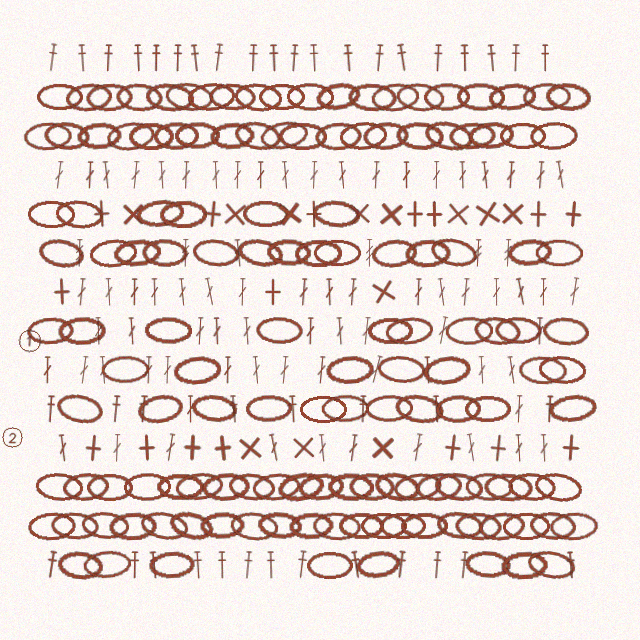chain: (422, 117, 475, 154), (166, 507, 217, 545), (54, 390, 106, 427), (532, 469, 585, 505), (138, 508, 191, 544), (525, 547, 578, 583), (428, 234, 479, 271), (36, 235, 87, 271), (235, 235, 286, 271), (232, 118, 284, 153), (258, 118, 310, 153), (393, 391, 445, 426), (135, 391, 186, 426), (275, 469, 326, 504), (372, 469, 423, 504), (392, 470, 444, 504), (105, 119, 156, 153), (421, 353, 472, 387), (314, 79, 363, 114), (547, 392, 598, 425), (174, 470, 225, 503), (433, 470, 484, 503), (164, 80, 214, 113), (135, 197, 185, 230), (472, 314, 522, 347), (414, 470, 464, 503), (435, 509, 485, 542), (144, 81, 195, 113), (395, 81, 446, 113), (251, 471, 302, 503), (190, 392, 239, 425), (354, 548, 403, 581), (233, 81, 283, 113), (370, 81, 420, 113), (487, 81, 537, 113), (54, 198, 104, 230), (311, 198, 361, 230), (88, 237, 138, 269), (112, 237, 162, 269), (191, 237, 241, 269), (384, 315, 434, 347), (541, 315, 591, 347), (172, 354, 222, 386), (229, 510, 279, 542), (477, 510, 527, 542), (537, 354, 588, 385), (64, 81, 113, 113), (370, 237, 419, 269), (227, 471, 276, 503), (297, 471, 346, 503), (56, 549, 105, 581), (186, 81, 236, 112), (338, 120, 388, 151), (376, 354, 426, 385), (34, 471, 84, 502), (507, 471, 557, 502), (80, 510, 130, 541), (528, 510, 578, 541), (82, 549, 132, 580), (544, 81, 593, 112), (395, 120, 444, 151), (467, 120, 516, 151), (325, 354, 374, 385), (61, 471, 110, 502), (201, 471, 250, 502), (347, 82, 397, 112), (518, 355, 568, 385), (483, 472, 533, 502), (549, 511, 599, 541), (43, 120, 91, 151), (362, 120, 410, 151), (506, 237, 554, 268), (256, 510, 304, 541), (464, 549, 512, 580), (85, 82, 134, 112), (115, 82, 164, 112), (23, 121, 72, 151), (448, 121, 497, 151), (26, 316, 75, 346), (27, 511, 76, 541), (50, 511, 99, 541), (108, 511, 157, 541), (312, 511, 361, 541), (208, 82, 256, 112), (314, 121, 362, 151), (404, 238, 452, 268), (454, 511, 502, 541), (148, 550, 196, 580), (500, 550, 548, 580), (286, 82, 335, 111), (456, 82, 505, 111), (522, 82, 571, 111), (529, 121, 578, 150), (57, 316, 106, 345), (76, 121, 123, 151), (209, 121, 256, 151), (288, 511, 335, 541), (423, 82, 471, 111), (141, 238, 189, 267), (144, 316, 192, 345), (255, 316, 303, 345), (445, 316, 493, 345), (494, 316, 542, 345), (101, 355, 149, 384), (245, 394, 293, 423), (321, 394, 369, 423), (365, 394, 413, 423), (123, 472, 171, 501), (348, 472, 396, 501), (465, 472, 513, 501), (278, 122, 327, 150), (27, 200, 76, 228), (313, 239, 362, 267), (153, 121, 200, 150), (174, 121, 221, 150), (435, 394, 482, 423), (327, 472, 374, 501), (199, 511, 246, 540), (499, 122, 547, 150), (159, 200, 207, 228), (242, 200, 290, 228), (294, 239, 342, 267), (535, 239, 583, 267), (299, 395, 347, 423), (464, 395, 512, 423), (86, 473, 134, 501), (156, 473, 204, 501), (379, 512, 427, 540), (400, 512, 448, 540), (502, 512, 550, 540), (266, 238, 312, 267), (36, 83, 83, 111), (258, 83, 305, 111), (128, 122, 175, 150), (367, 317, 414, 345), (338, 512, 385, 540), (360, 512, 407, 540), (306, 551, 353, 579)
double: (369, 355, 384, 384), (203, 277, 217, 306), (514, 277, 528, 306), (436, 316, 450, 345), (267, 433, 281, 462), (554, 160, 567, 189), (568, 277, 581, 306), (164, 433, 177, 462), (411, 433, 424, 462), (465, 433, 478, 462), (53, 161, 65, 189), (436, 278, 448, 306), (78, 356, 90, 384), (506, 356, 518, 384), (57, 434, 69, 462), (347, 434, 359, 462), (101, 161, 112, 189), (130, 161, 141, 189), (280, 161, 291, 189), (337, 161, 348, 189), (480, 161, 491, 189), (535, 161, 546, 189), (76, 278, 87, 306), (177, 278, 188, 306), (298, 278, 309, 306), (347, 278, 358, 306), (460, 278, 471, 306), (361, 317, 372, 345), (98, 356, 109, 384), (251, 356, 262, 384), (279, 356, 290, 384), (316, 356, 327, 384), (317, 434, 328, 462), (85, 161, 95, 189), (157, 161, 167, 189), (181, 161, 191, 189), (211, 161, 221, 189), (309, 161, 319, 189), (371, 161, 381, 189), (506, 161, 516, 189), (104, 278, 114, 306), (127, 317, 137, 345), (195, 317, 205, 345), (212, 317, 222, 345), (242, 317, 252, 345), (335, 317, 345, 345), (423, 356, 433, 384), (477, 356, 487, 384), (514, 395, 524, 423), (112, 434, 122, 462), (514, 434, 524, 462), (539, 434, 549, 462), (233, 161, 242, 189), (256, 161, 265, 189), (402, 161, 411, 189), (432, 161, 441, 189), (458, 161, 467, 189), (130, 278, 139, 306), (150, 278, 159, 306), (238, 278, 247, 306), (325, 278, 334, 306), (414, 278, 423, 306), (492, 278, 501, 306), (539, 278, 548, 306), (94, 317, 103, 345), (306, 317, 315, 345), (535, 317, 544, 345), (43, 356, 52, 384), (144, 356, 153, 384), (163, 356, 172, 384), (223, 356, 232, 384), (186, 395, 195, 423)
half_double: (395, 43, 410, 72), (44, 550, 59, 579), (211, 43, 225, 72), (295, 550, 309, 579), (349, 550, 363, 579), (394, 550, 408, 579), (46, 43, 59, 72), (189, 44, 202, 72), (342, 44, 355, 72), (137, 395, 150, 423), (102, 44, 114, 72), (132, 44, 144, 72), (247, 44, 259, 72), (268, 44, 280, 72), (288, 44, 300, 72), (308, 44, 320, 72), (373, 44, 385, 72), (432, 44, 444, 72), (486, 44, 498, 72), (110, 395, 122, 423), (228, 395, 240, 423), (287, 395, 299, 423), (148, 551, 160, 579), (192, 551, 204, 579), (242, 551, 254, 579), (431, 551, 443, 579), (458, 551, 470, 579), (565, 551, 577, 579), (77, 44, 88, 72), (172, 44, 183, 72), (459, 44, 470, 72), (510, 44, 521, 72), (45, 395, 56, 423), (431, 395, 442, 423), (544, 395, 555, 423), (129, 551, 140, 579), (151, 44, 161, 72), (540, 44, 550, 72), (358, 395, 368, 423), (217, 551, 227, 579), (266, 551, 276, 579)
noise: (16, 327, 43, 354), (0, 425, 25, 450)
single: (471, 197, 504, 230), (367, 275, 400, 308), (274, 198, 305, 229), (437, 432, 468, 463), (198, 199, 228, 229), (220, 199, 250, 229), (376, 199, 406, 229), (443, 199, 473, 229), (558, 199, 588, 229), (78, 433, 108, 463), (208, 433, 238, 463), (235, 433, 265, 463), (483, 433, 513, 463), (87, 199, 116, 228), (345, 199, 374, 228), (498, 199, 527, 228), (47, 277, 76, 306), (132, 433, 161, 462), (178, 433, 207, 462), (289, 433, 318, 462), (368, 433, 397, 462), (556, 433, 585, 462), (119, 200, 147, 228), (300, 200, 328, 228), (401, 200, 429, 228), (420, 200, 448, 228), (524, 200, 552, 228), (259, 278, 287, 306)
treble: (233, 239, 244, 267), (473, 239, 483, 267), (503, 239, 513, 267), (75, 239, 84, 267), (181, 239, 190, 267), (365, 239, 374, 267)
